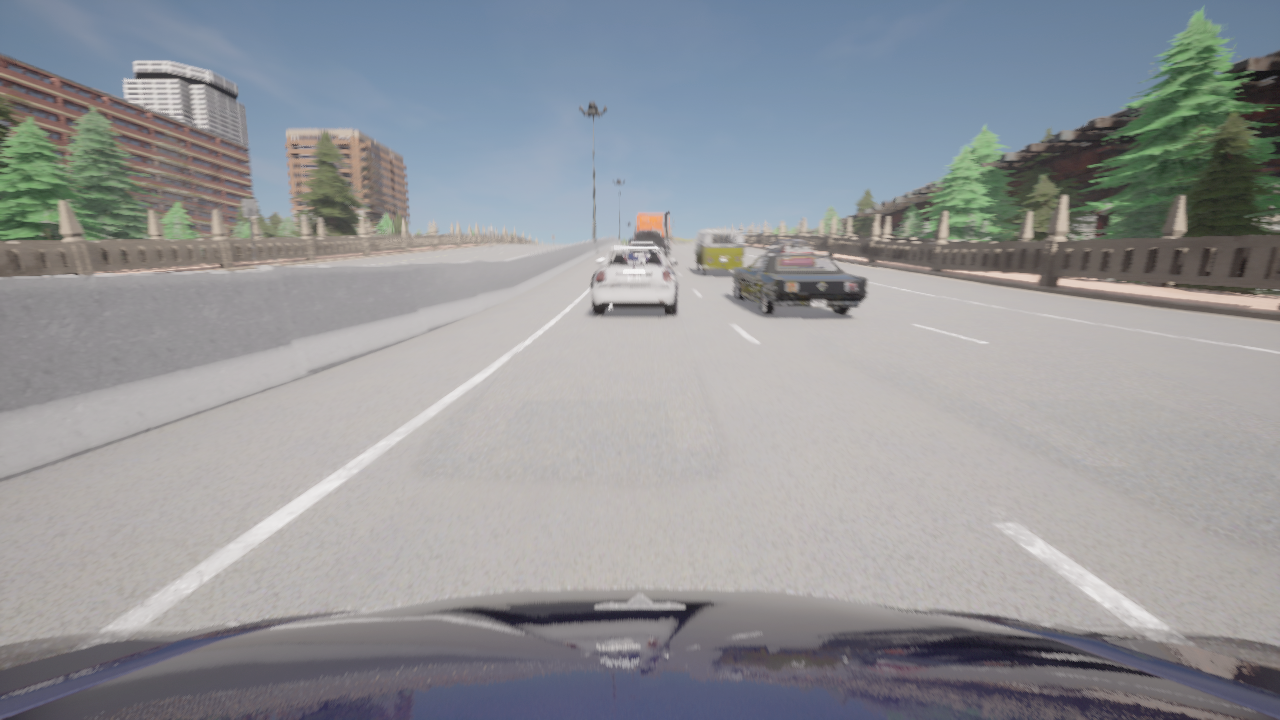cyclist: (0, 588, 1279, 719), (733, 254, 866, 315), (591, 246, 677, 315), (693, 229, 743, 275), (629, 211, 674, 258), (633, 232, 665, 259), (764, 239, 814, 254), (627, 242, 663, 251), (633, 230, 635, 238)
